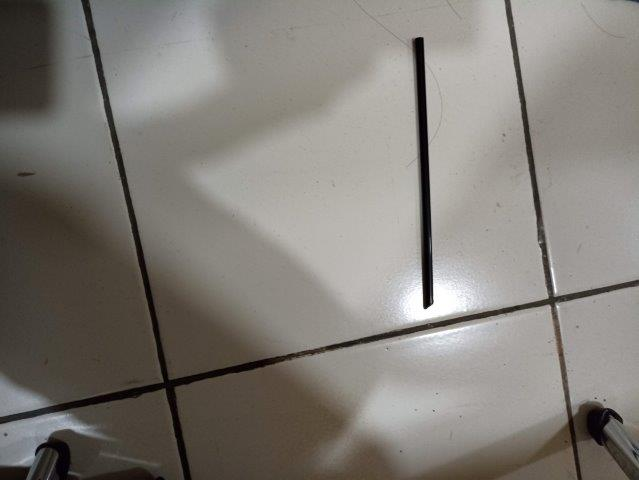sedotan: (415, 37, 435, 309)
